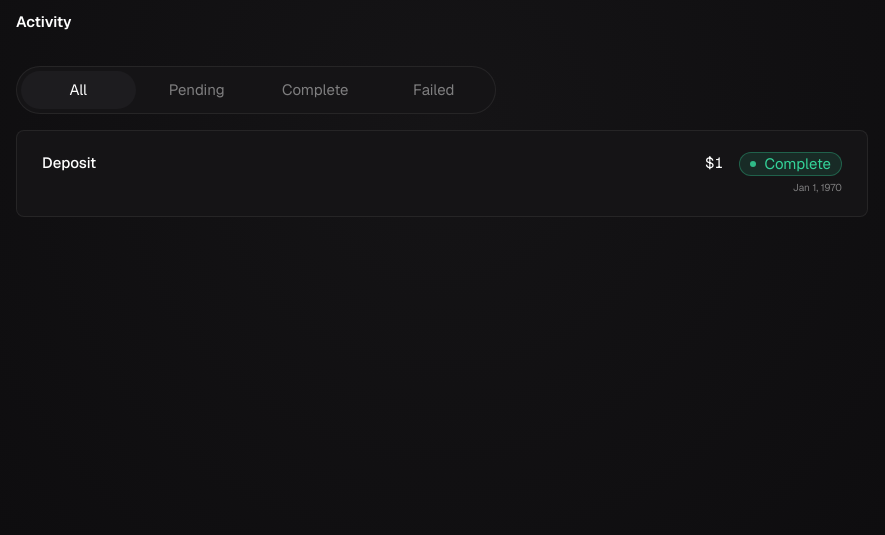
Test: <History> › toggles the inline stepper open and closed on row click
The image size is (885, 535).
Expected: the text "Usually takes" is not shown
Click the button. click: x=69, y=162
box: [25, 139, 859, 208]
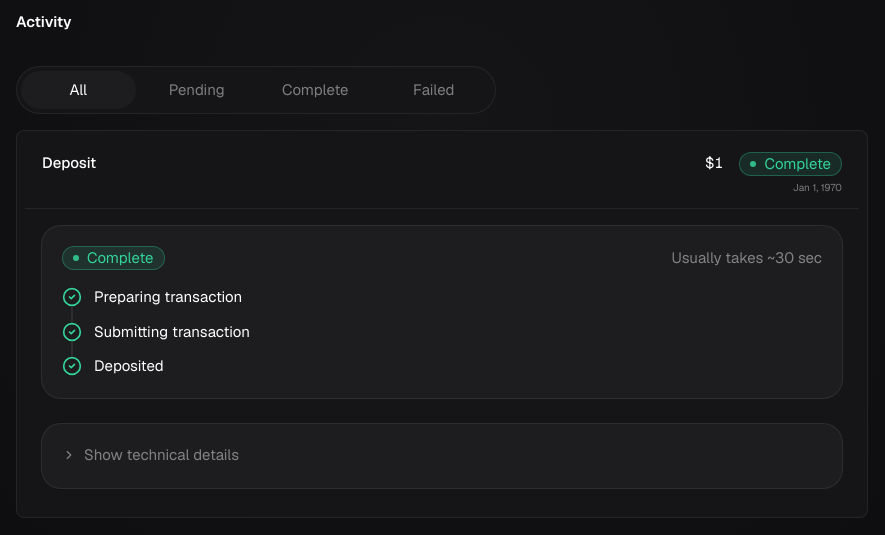
Result: the text "Usually takes ~30 sec" is shown at [671, 247, 822, 269]
// Click again → collapses.
Click the button. click: x=69, y=162
box: [25, 139, 859, 208]
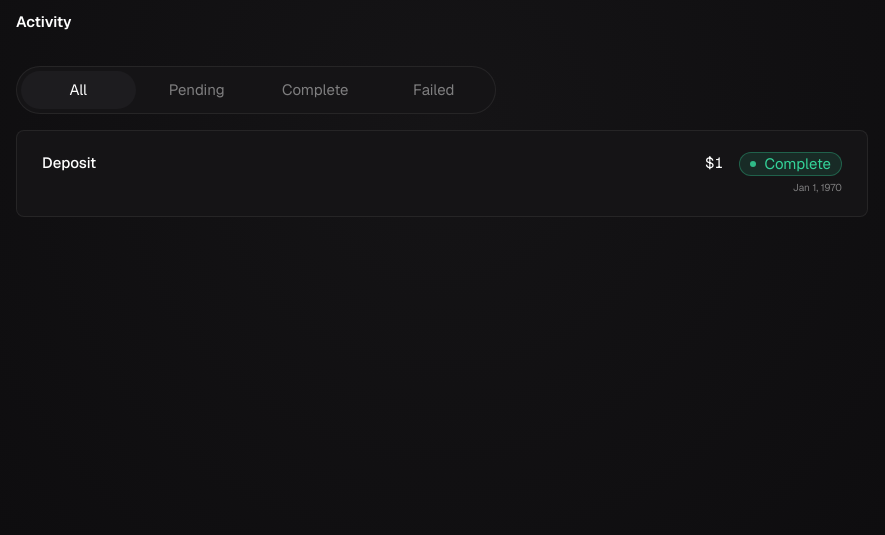
Result: the text "Usually takes" is gone
